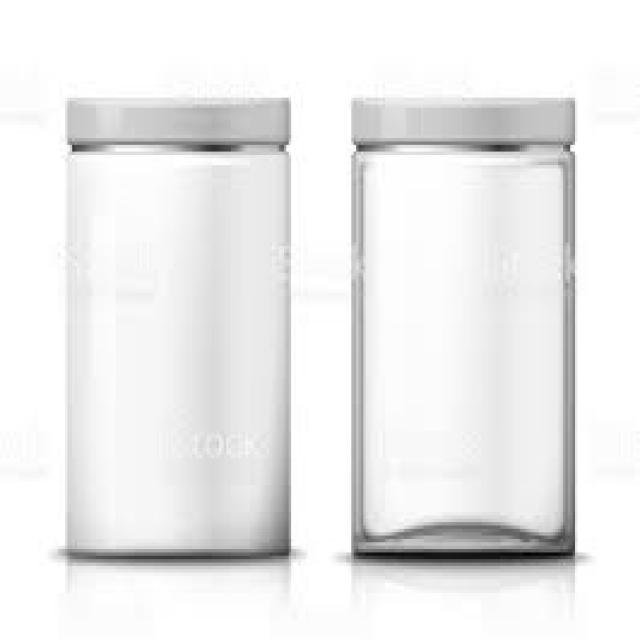Glass: (351, 150, 579, 560)
